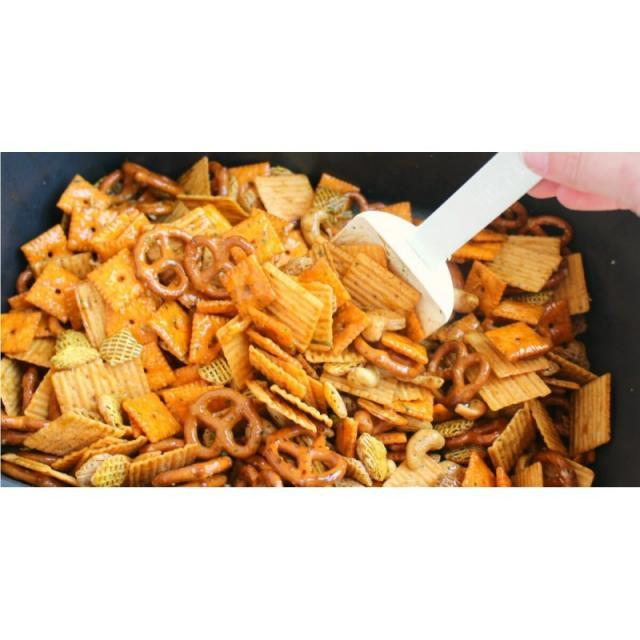Salatini: (14, 185, 608, 483)
